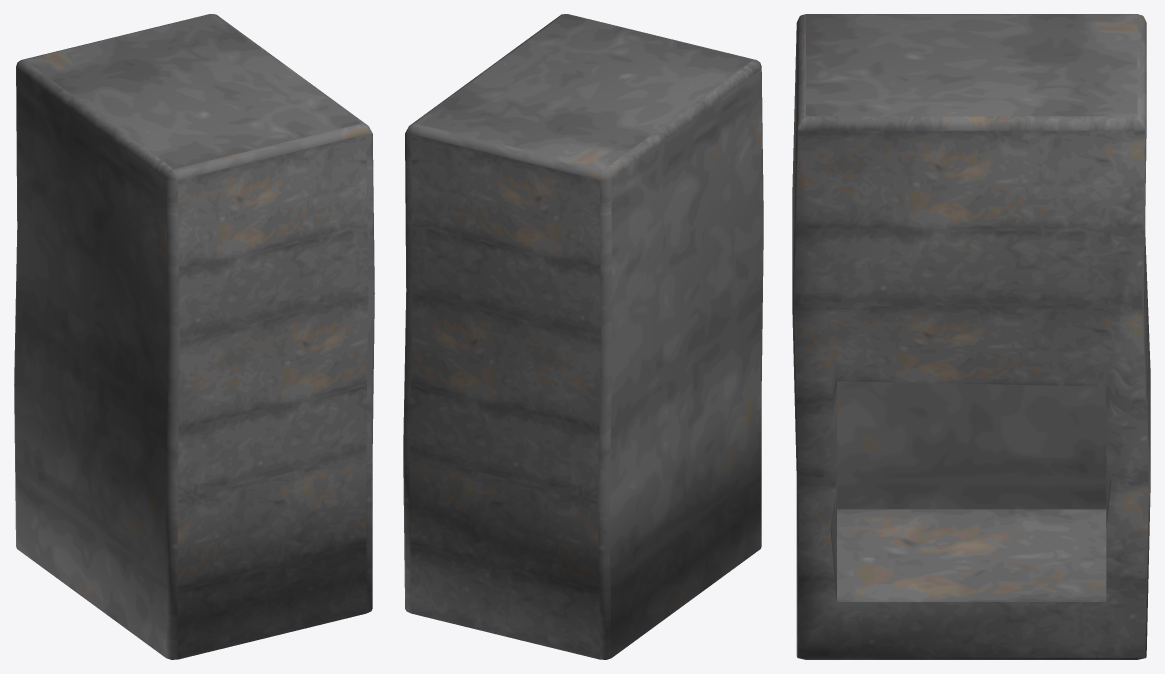
Rendered from Fireplace.fbx.
3 renders of one model, left to right at view 1: azimuth 30°, elevation 25°; view 2: azimuth 150°, elevation 25°; view 3: azimuth 270°, elevation 25°, orthographic. The views are drawn at different scales.
Visible parts, largest first — view 1: Cube.027; view 2: Cube.027; view 3: Cube.027.
Boxes of the visible parts, x1,y1,x2,y2 form: Cube.027: (14,14,374,659); Cube.027: (403,14,763,659); Cube.027: (792,14,1150,659).
Bounding box in the file's own units: 2 × 2.76 × 4.59.
